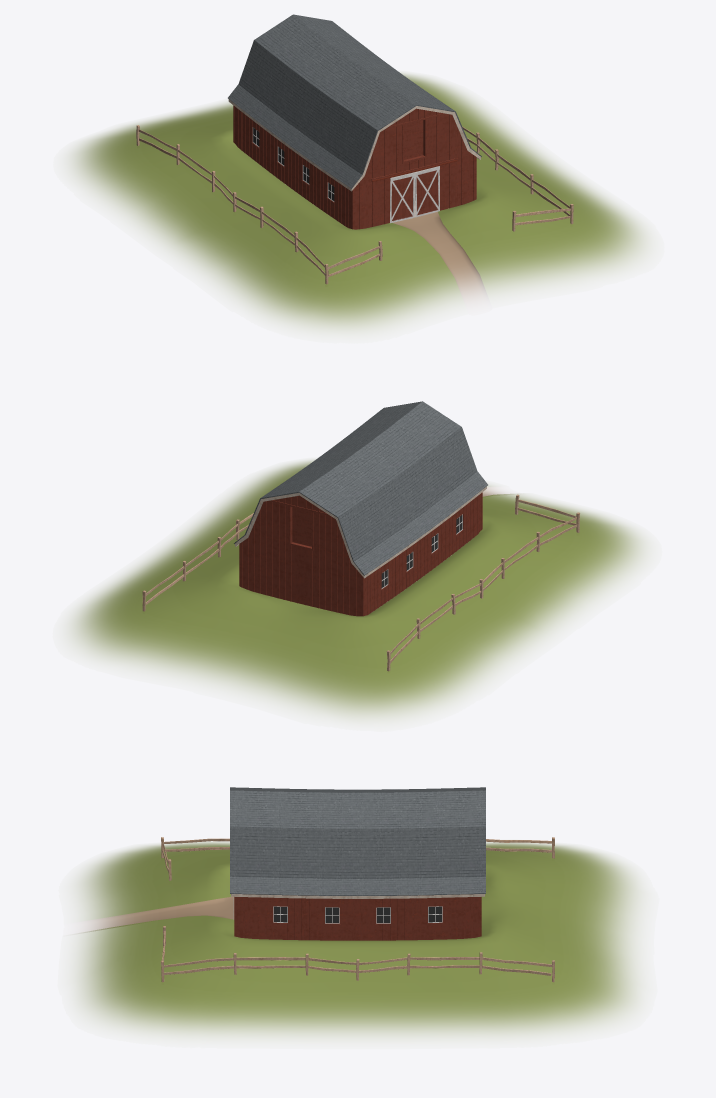
The model's file is asd.glb.
3 renders of one model, top to bottom at view 1: azimuth 30°, elevation 25°; view 2: azimuth 150°, elevation 25°; view 3: azimuth 270°, elevation 25°, orthographic. The views are drawn at different scales.
Visible parts, largest first — view 1: Grass-material, Barn_Roof-material, Barn_Walls-material, Fence-material (×3), Dirt-material, Barn_Doors-material; view 2: Grass-material, Barn_Roof-material, Barn_Walls-material, Fence-material (×3); view 3: Grass-material, Barn_Roof-material, Barn_Walls-material, Fence-material (×3), Dirt-material, Barn_Windows-material.
Part boxes in pixels (<box>): Grass-material: <box>71,73,645,330</box>; Barn_Roof-material: <box>228,14,481,191</box>; Barn_Walls-material: <box>233,105,476,229</box>; Fence-material (×3): <box>136,125,573,284</box>; Dirt-material: <box>393,212,486,301</box>; Barn_Doors-material: <box>390,166,439,223</box>; Grass-material: <box>71,460,644,718</box>; Barn_Roof-material: <box>234,401,487,578</box>; Barn_Walls-material: <box>239,492,482,616</box>; Fence-material (×3): <box>142,494,579,671</box>; Grass-material: <box>77,841,639,1036</box>; Barn_Roof-material: <box>230,787,485,898</box>; Barn_Walls-material: <box>234,897,481,940</box>; Fence-material (×3): <box>161,837,554,982</box>; Dirt-material: <box>83,896,234,931</box>; Barn_Windows-material: <box>274,906,441,922</box>.
Size of the model in its own units: 32 by 10.12 by 37.4.
Materials: 8 (7 with a texture image).
